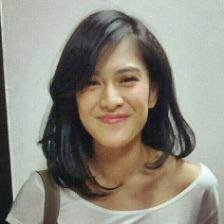Non hijab: (41, 9, 189, 204)
